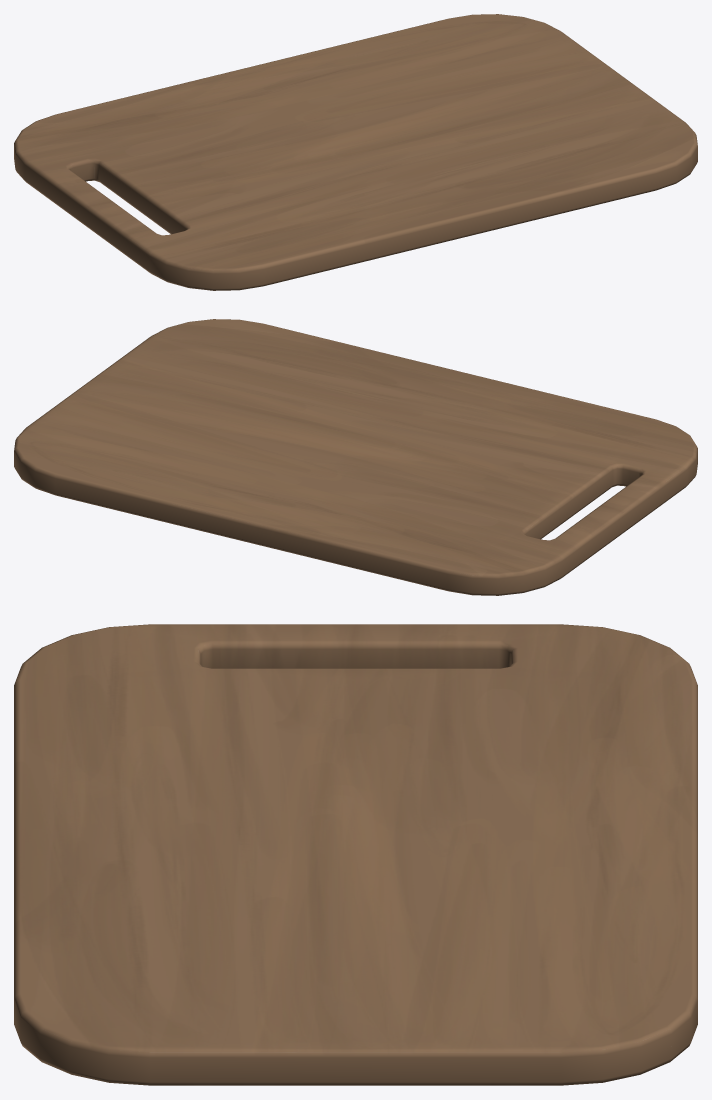
The model's file is ChoppingBoard.obj.
The picture shows the model from 3 angles, top to bottom: view 1: azimuth 30°, elevation 25°; view 2: azimuth 150°, elevation 25°; view 3: azimuth 270°, elevation 25°; orthographic projection. The views are drawn at different scales.
Visible parts, largest first — view 1: ChoppingBoard_ChoppingBoardSG; view 2: ChoppingBoard_ChoppingBoardSG; view 3: ChoppingBoard_ChoppingBoardSG.
Part boxes in pixels (x1,y1,x2,y2): ChoppingBoard_ChoppingBoardSG: (14,14,697,290); ChoppingBoard_ChoppingBoardSG: (14,319,697,595); ChoppingBoard_ChoppingBoardSG: (14,624,697,1085).
Size of the model in its own units: 3.33 by 0.1322 by 2.24.
1 material, 1 textured.
